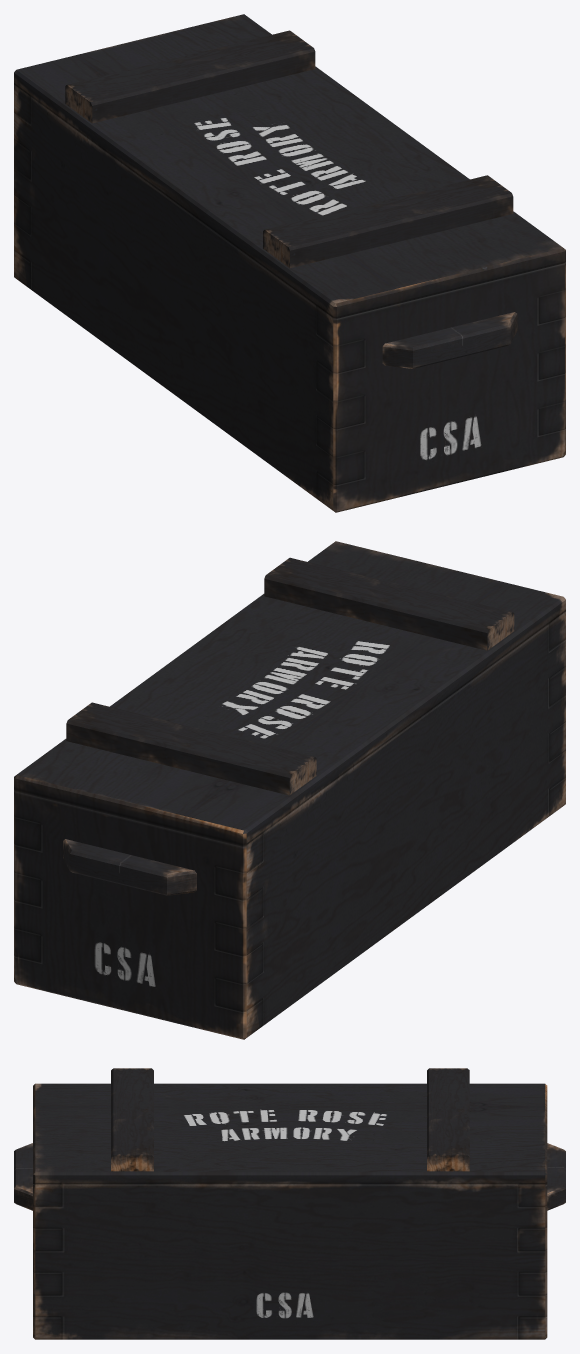
The model's file is crate01.obj.
The picture shows the model from 3 angles, top to bottom: view 1: azimuth 30°, elevation 25°; view 2: azimuth 150°, elevation 25°; view 3: azimuth 270°, elevation 25°; orthographic projection. The views are drawn at different scales.
Visible parts, largest first — view 1: Crate01, Topwood, BoxHandle; view 2: Crate01, Topwood, BoxHandle; view 3: Crate01, Topwood, BoxHandle.
Boxes of the visible parts, left/top/right/bottom form: Crate01: left=14, top=14, right=565, bottom=512; Topwood: left=65, top=30, right=513, bottom=268; BoxHandle: left=382, top=312, right=517, bottom=368; Crate01: left=14, top=541, right=565, bottom=1039; Topwood: left=66, top=557, right=514, bottom=795; BoxHandle: left=63, top=839, right=196, bottom=895; Crate01: left=33, top=1083, right=547, bottom=1339; Topwood: left=111, top=1068, right=469, bottom=1171; BoxHandle: left=14, top=1143, right=565, bottom=1210.
Bounding box in the file's own units: 0.5 × 0.4711 × 1.29.
